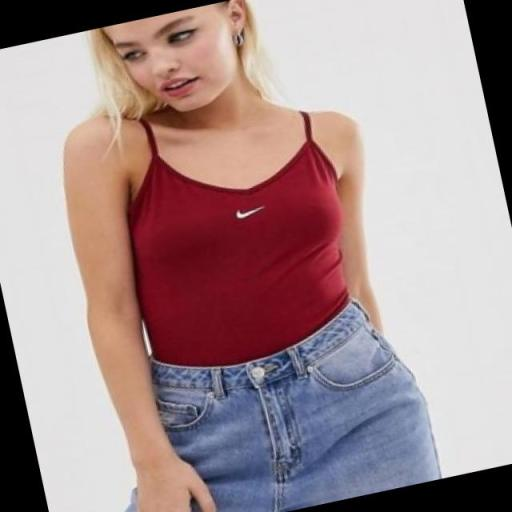Nike: (226, 198, 269, 228)
